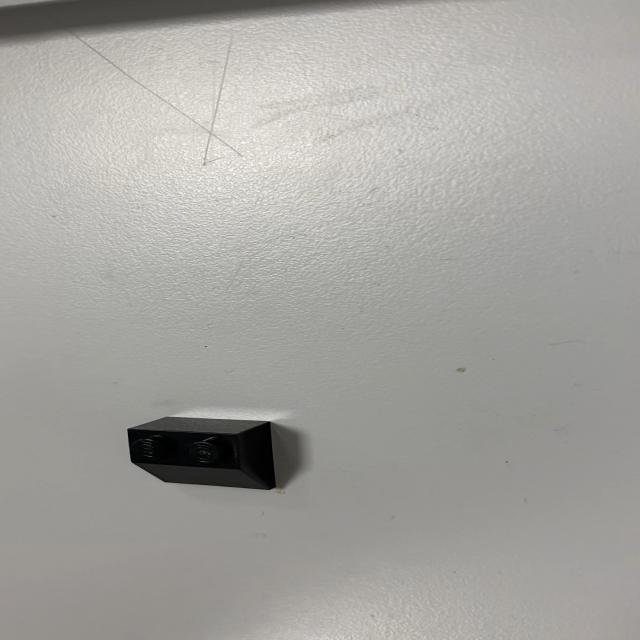P2x2x1: (125, 416, 277, 490)
